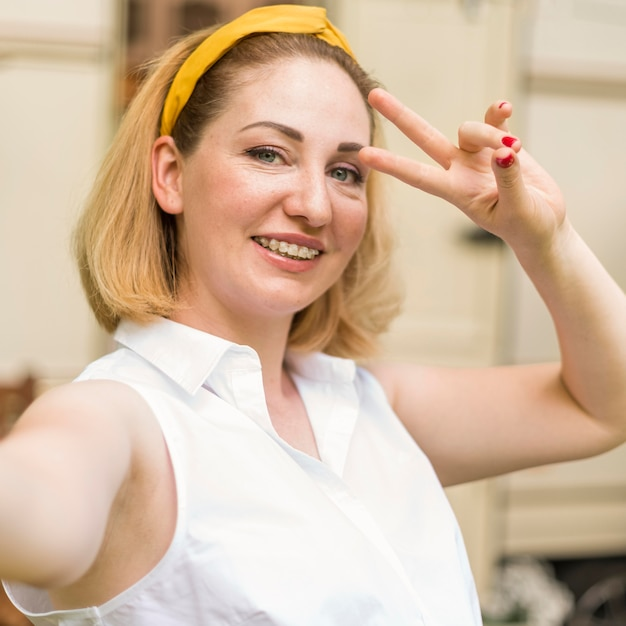young: (75, 14, 388, 332)
